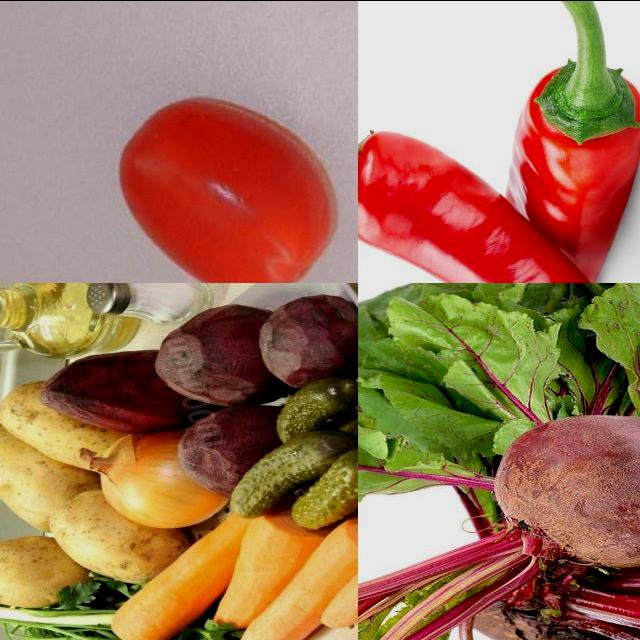beet: (488, 416, 640, 559), (42, 347, 179, 430), (162, 307, 273, 401), (261, 301, 359, 388), (177, 412, 265, 492)
carrot: (119, 576, 204, 640), (241, 520, 316, 583), (249, 603, 314, 640)
cucumber: (238, 448, 324, 510), (310, 464, 359, 523), (284, 388, 349, 428)
garlic: (447, 1, 640, 283), (359, 138, 640, 283)
onion: (93, 431, 209, 523)
potato: (51, 514, 163, 574), (1, 435, 64, 533), (1, 392, 91, 449), (1, 540, 69, 603)
tomato: (99, 80, 359, 283)
